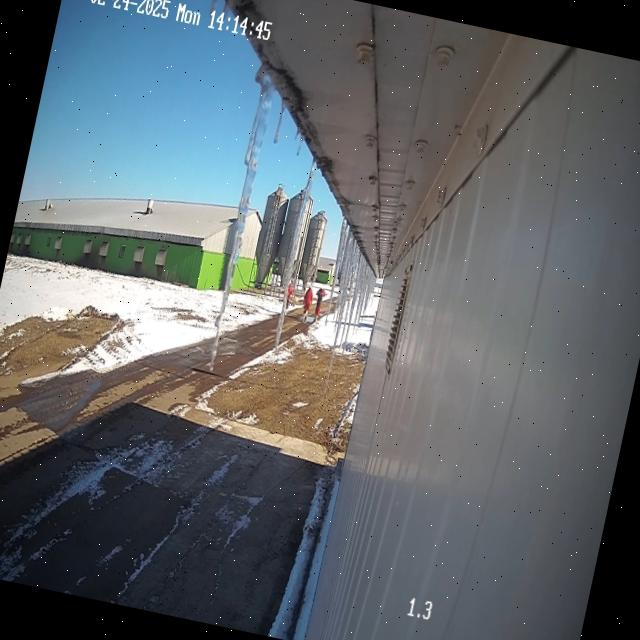Red uniform: (314, 288, 325, 322), (302, 286, 312, 320), (286, 282, 292, 308)
